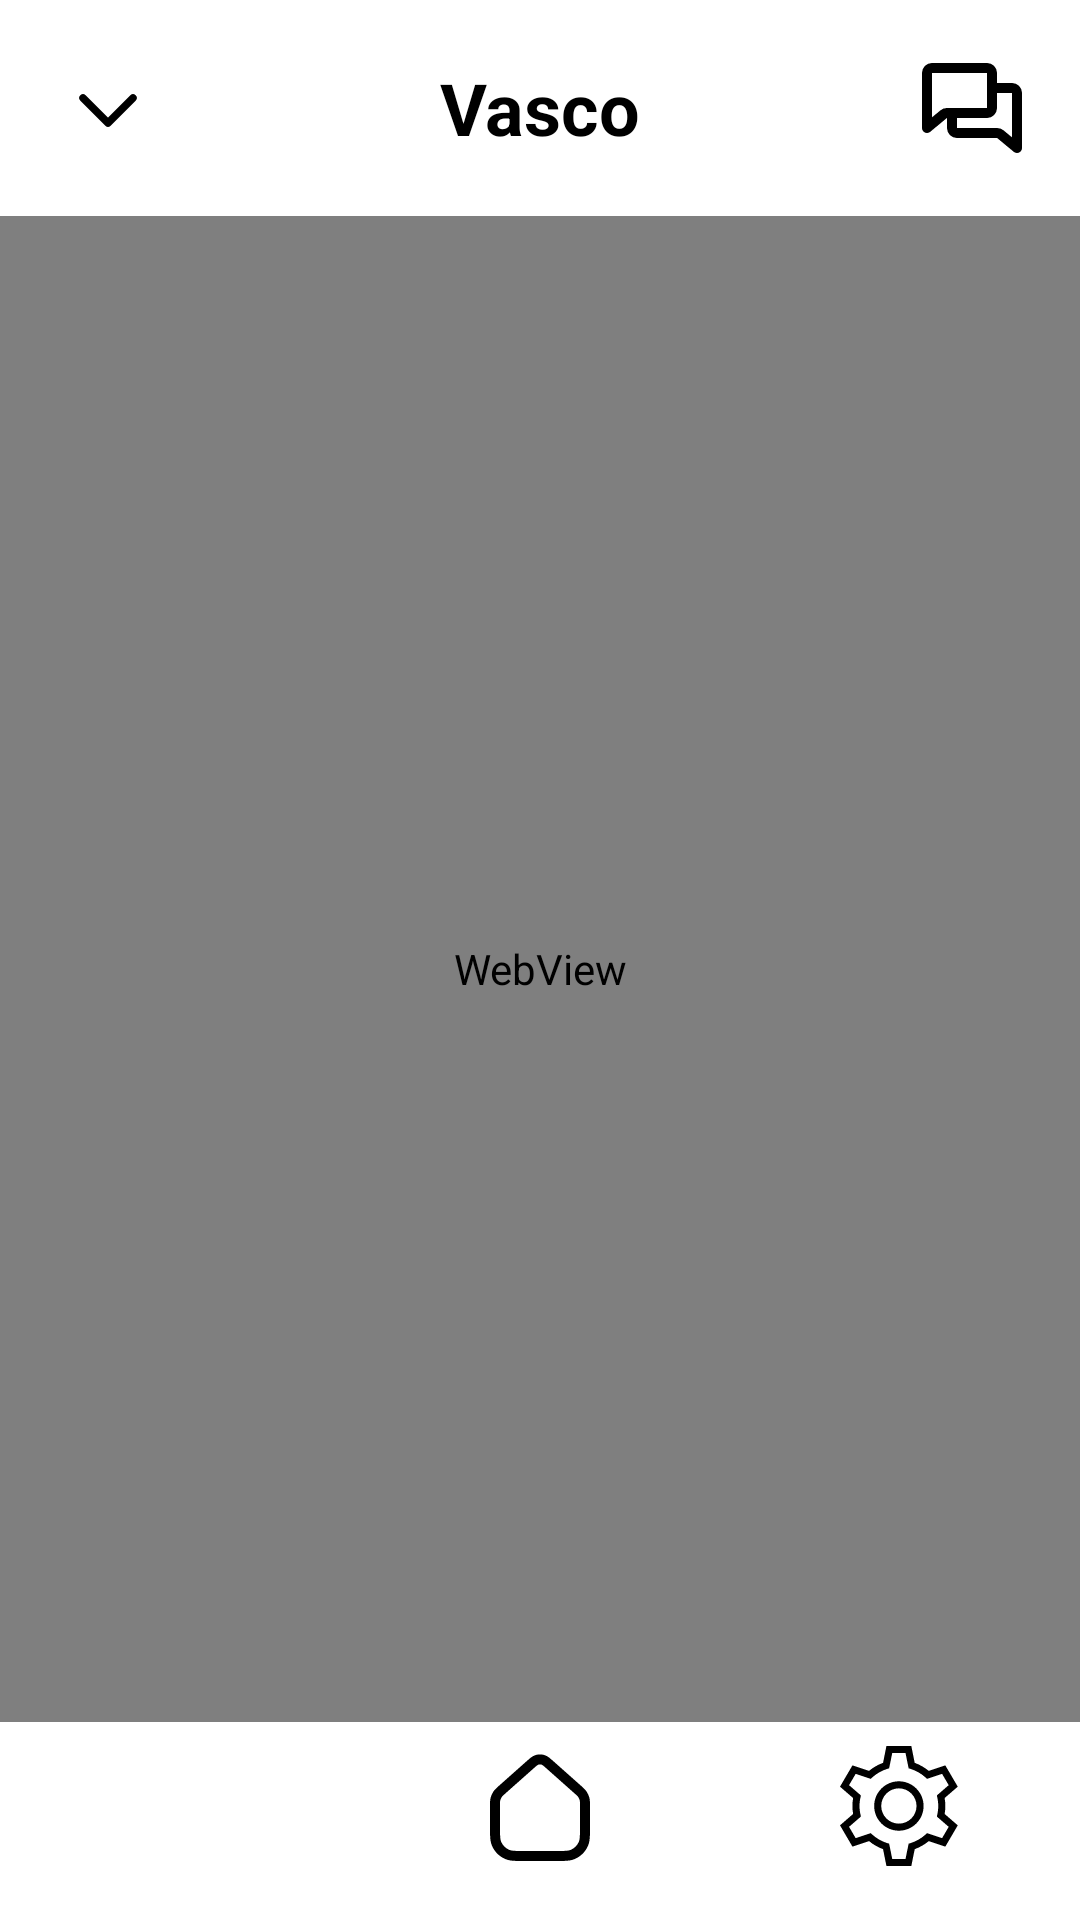

Where to tap for icons on this 1080 × 1920 app screen, as (x=x, y=y):
Chat: (x=972, y=108)
home: (x=540, y=1807)
setting: (x=899, y=1806)
